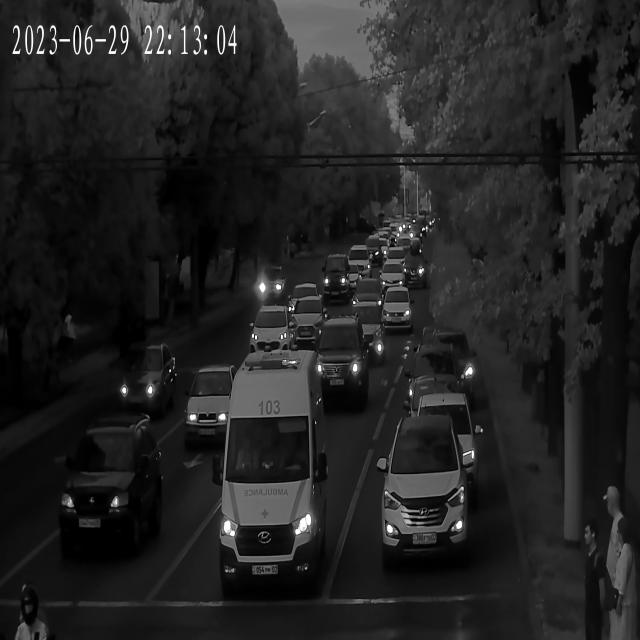Bus: (219, 349, 327, 602)
Car: (52, 422, 163, 556), (382, 416, 465, 568), (414, 397, 480, 520), (308, 316, 366, 409), (403, 346, 462, 432), (422, 323, 478, 411), (116, 336, 178, 412), (187, 367, 238, 455), (249, 306, 295, 364), (350, 304, 384, 361), (295, 295, 324, 344), (385, 288, 414, 332), (322, 255, 350, 300), (292, 280, 320, 321), (256, 268, 284, 306), (348, 242, 372, 285), (354, 280, 382, 314), (404, 256, 430, 289), (382, 262, 404, 292), (359, 239, 381, 266), (386, 246, 408, 270), (373, 230, 392, 256)
